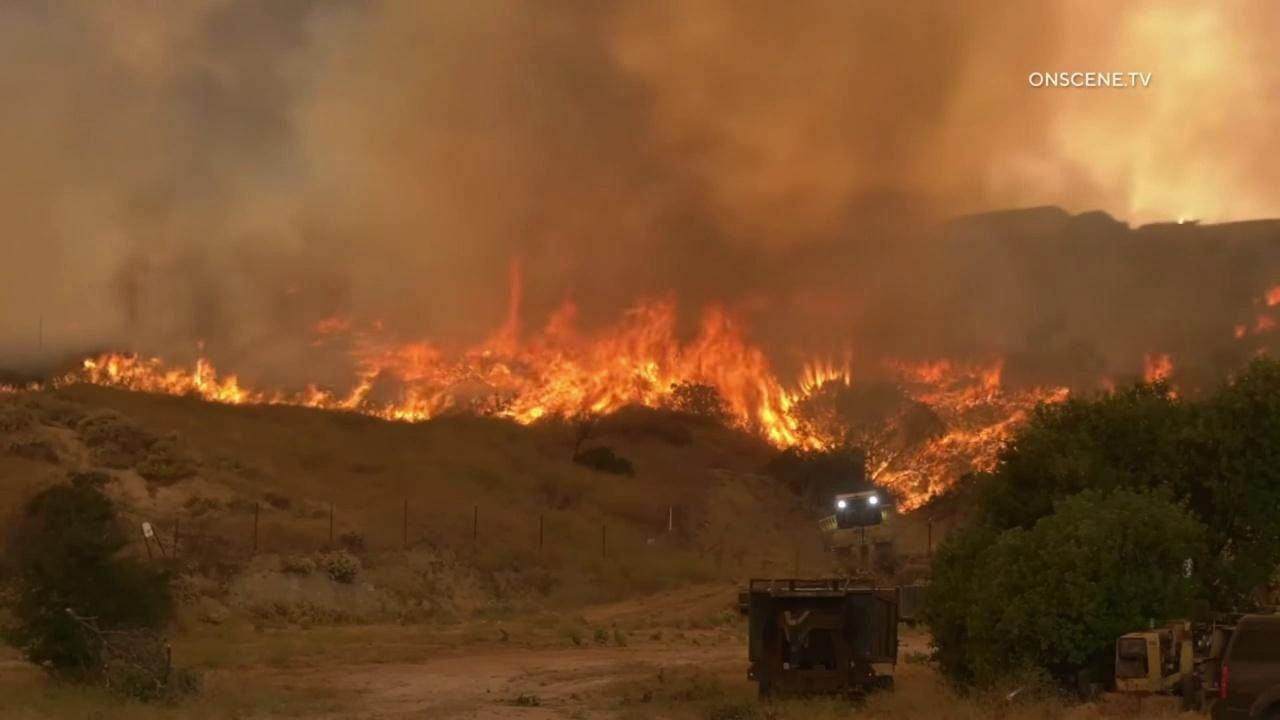fire: (0, 250, 854, 452), (864, 352, 1070, 516), (1139, 348, 1179, 401), (1252, 312, 1280, 336), (1096, 372, 1117, 398), (1265, 286, 1280, 307), (1233, 324, 1246, 339)
smoke: (0, 0, 1280, 398)
